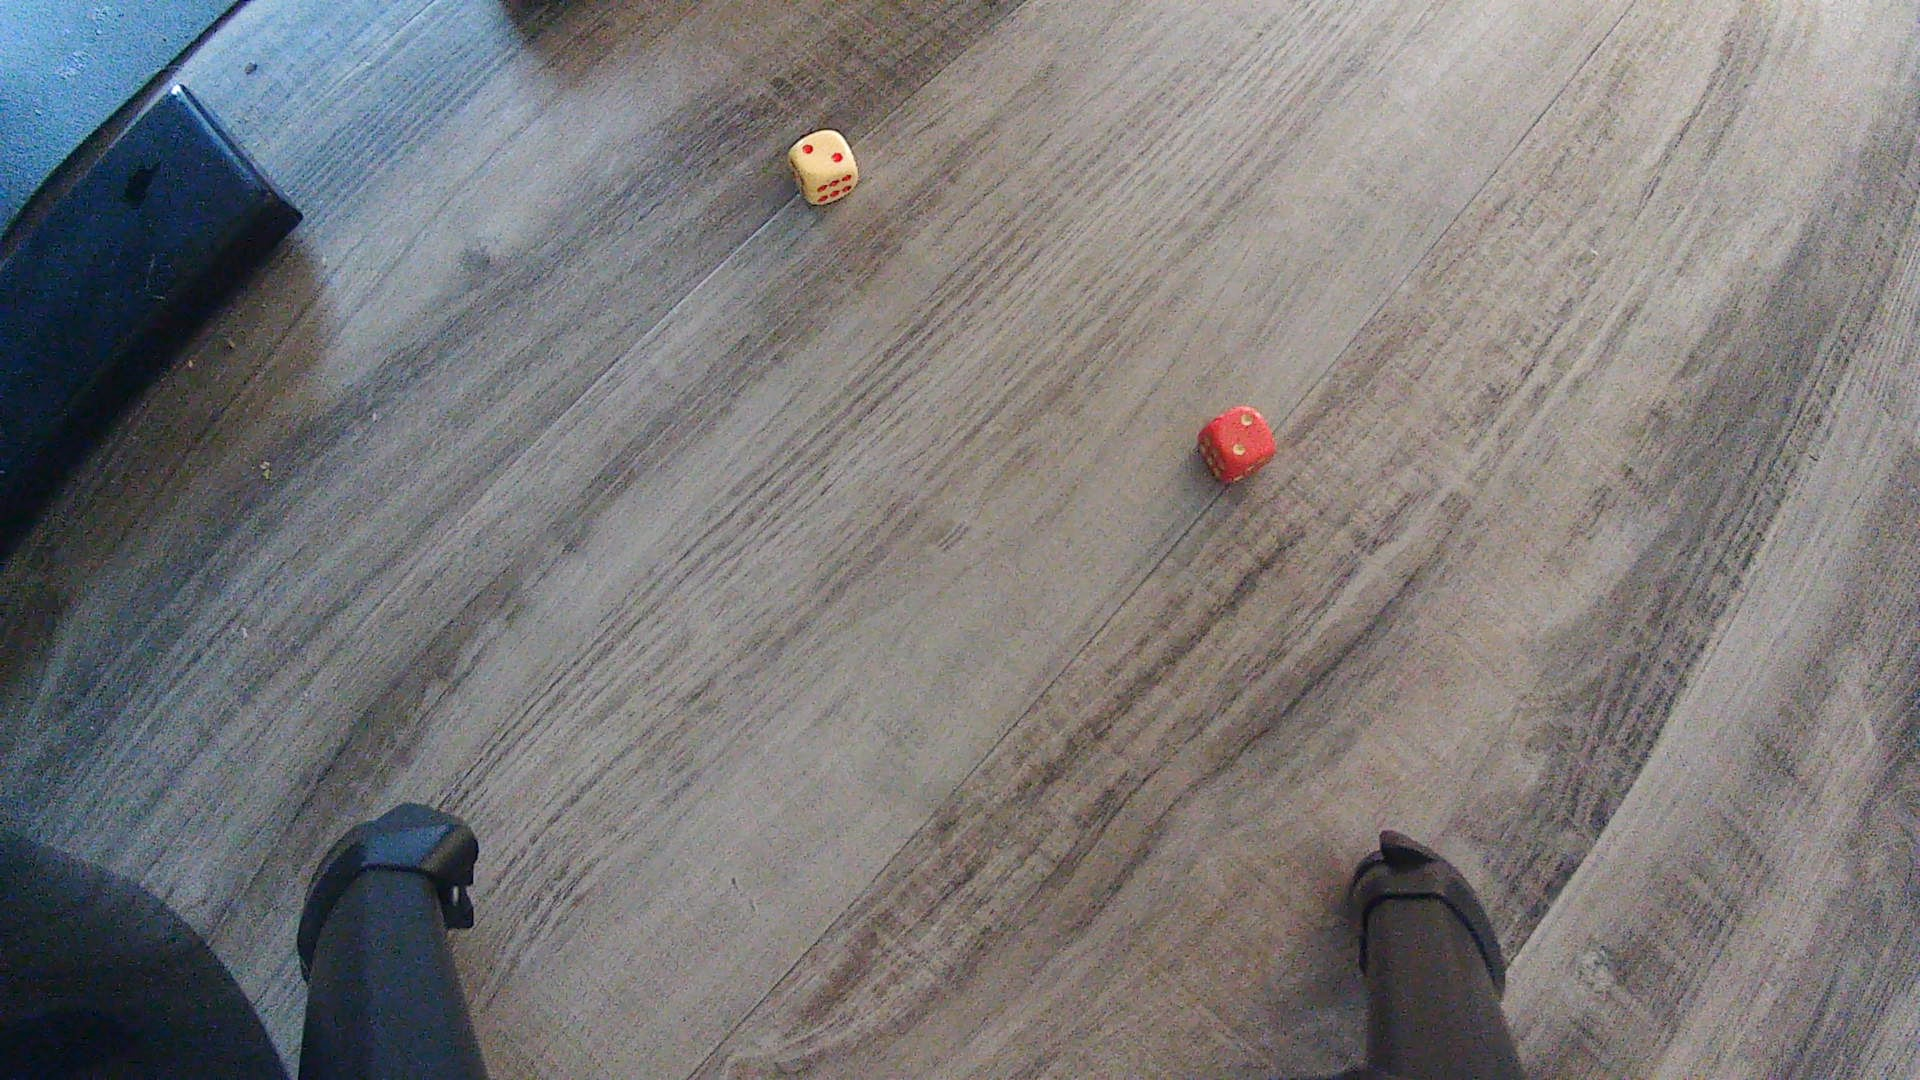die: (1193, 404, 1280, 487), (785, 127, 861, 206)
